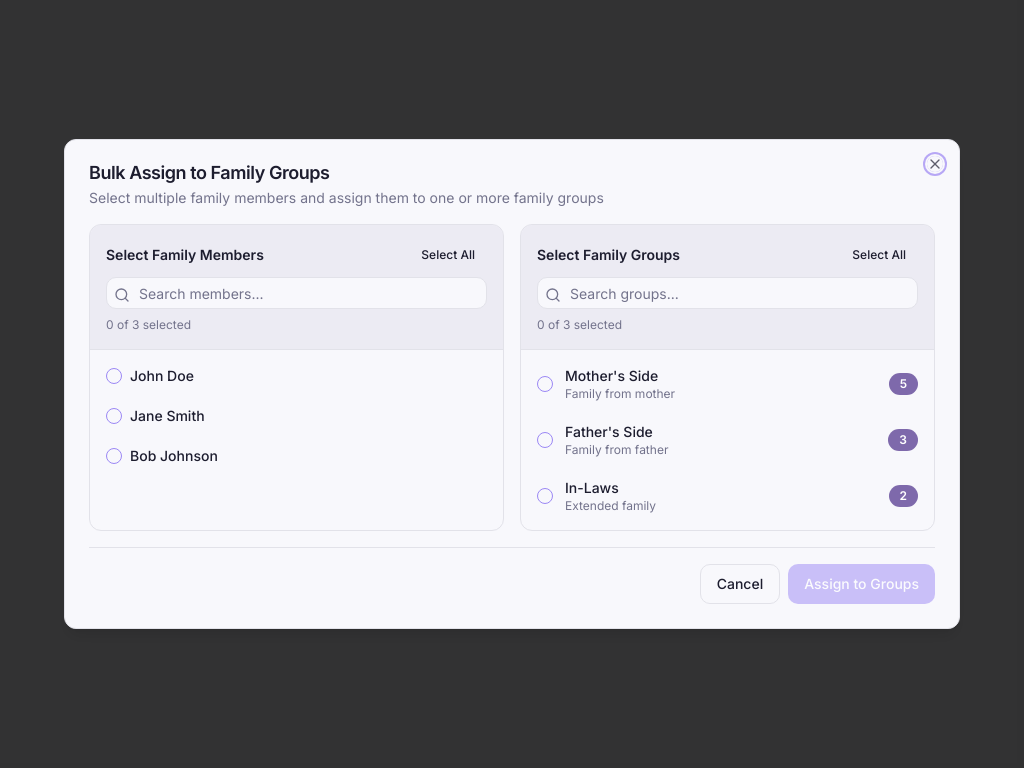
BulkAssignToGroupDialog › Group Selection › should select all groups when select all is clicked
Expected: the text "Mother's Side" is shown, [565,367,658,384]
Click the button "Select All" in the row of "Select Family Groups" at (879, 255), box [840,241,918,269]
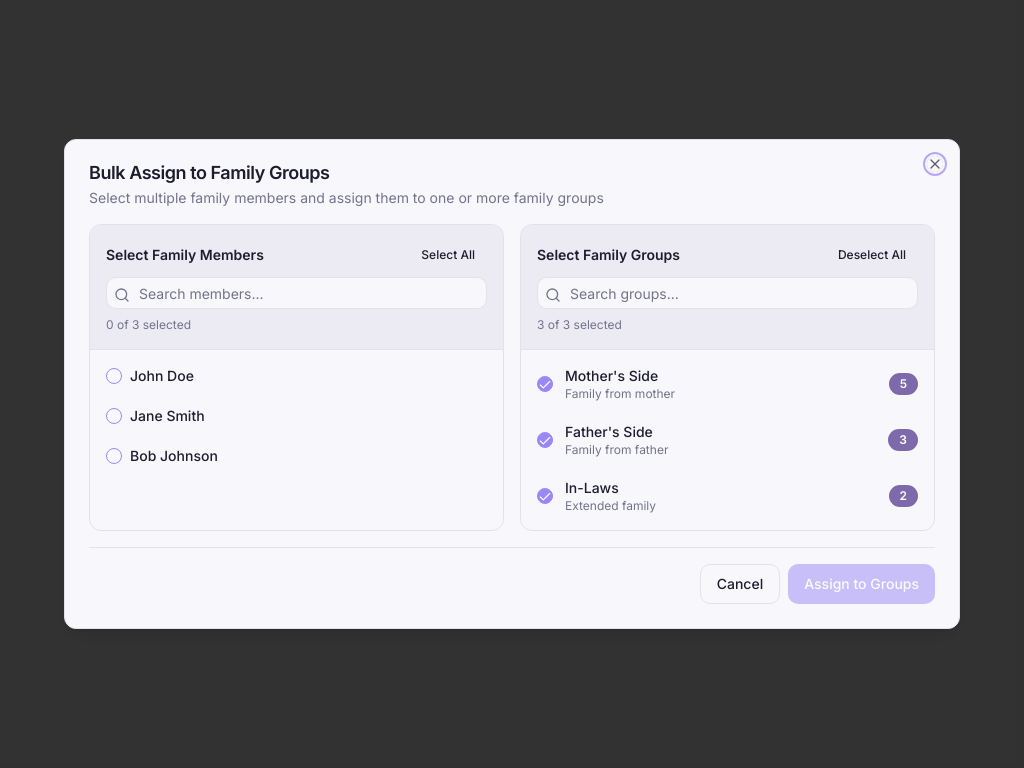
Result: the checkbox next to "Mother's Side" is checked at [537,376,553,392]
Result: the checkbox next to "Father's Side" is checked at [537,432,553,448]
Result: the checkbox next to "In-Laws" is checked at [537,488,553,504]
